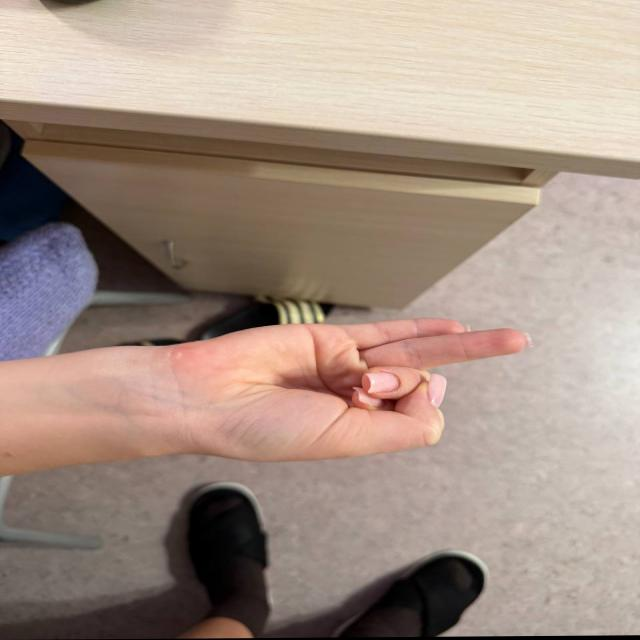i: (184, 285, 540, 461)
